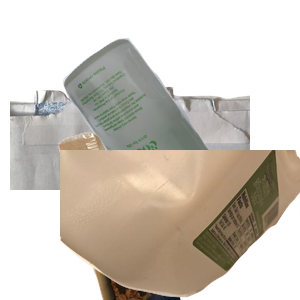glass: (60, 36, 300, 216)
paper: (10, 84, 250, 264)
plastic: (60, 150, 300, 300)
trash: (56, 120, 229, 300)
